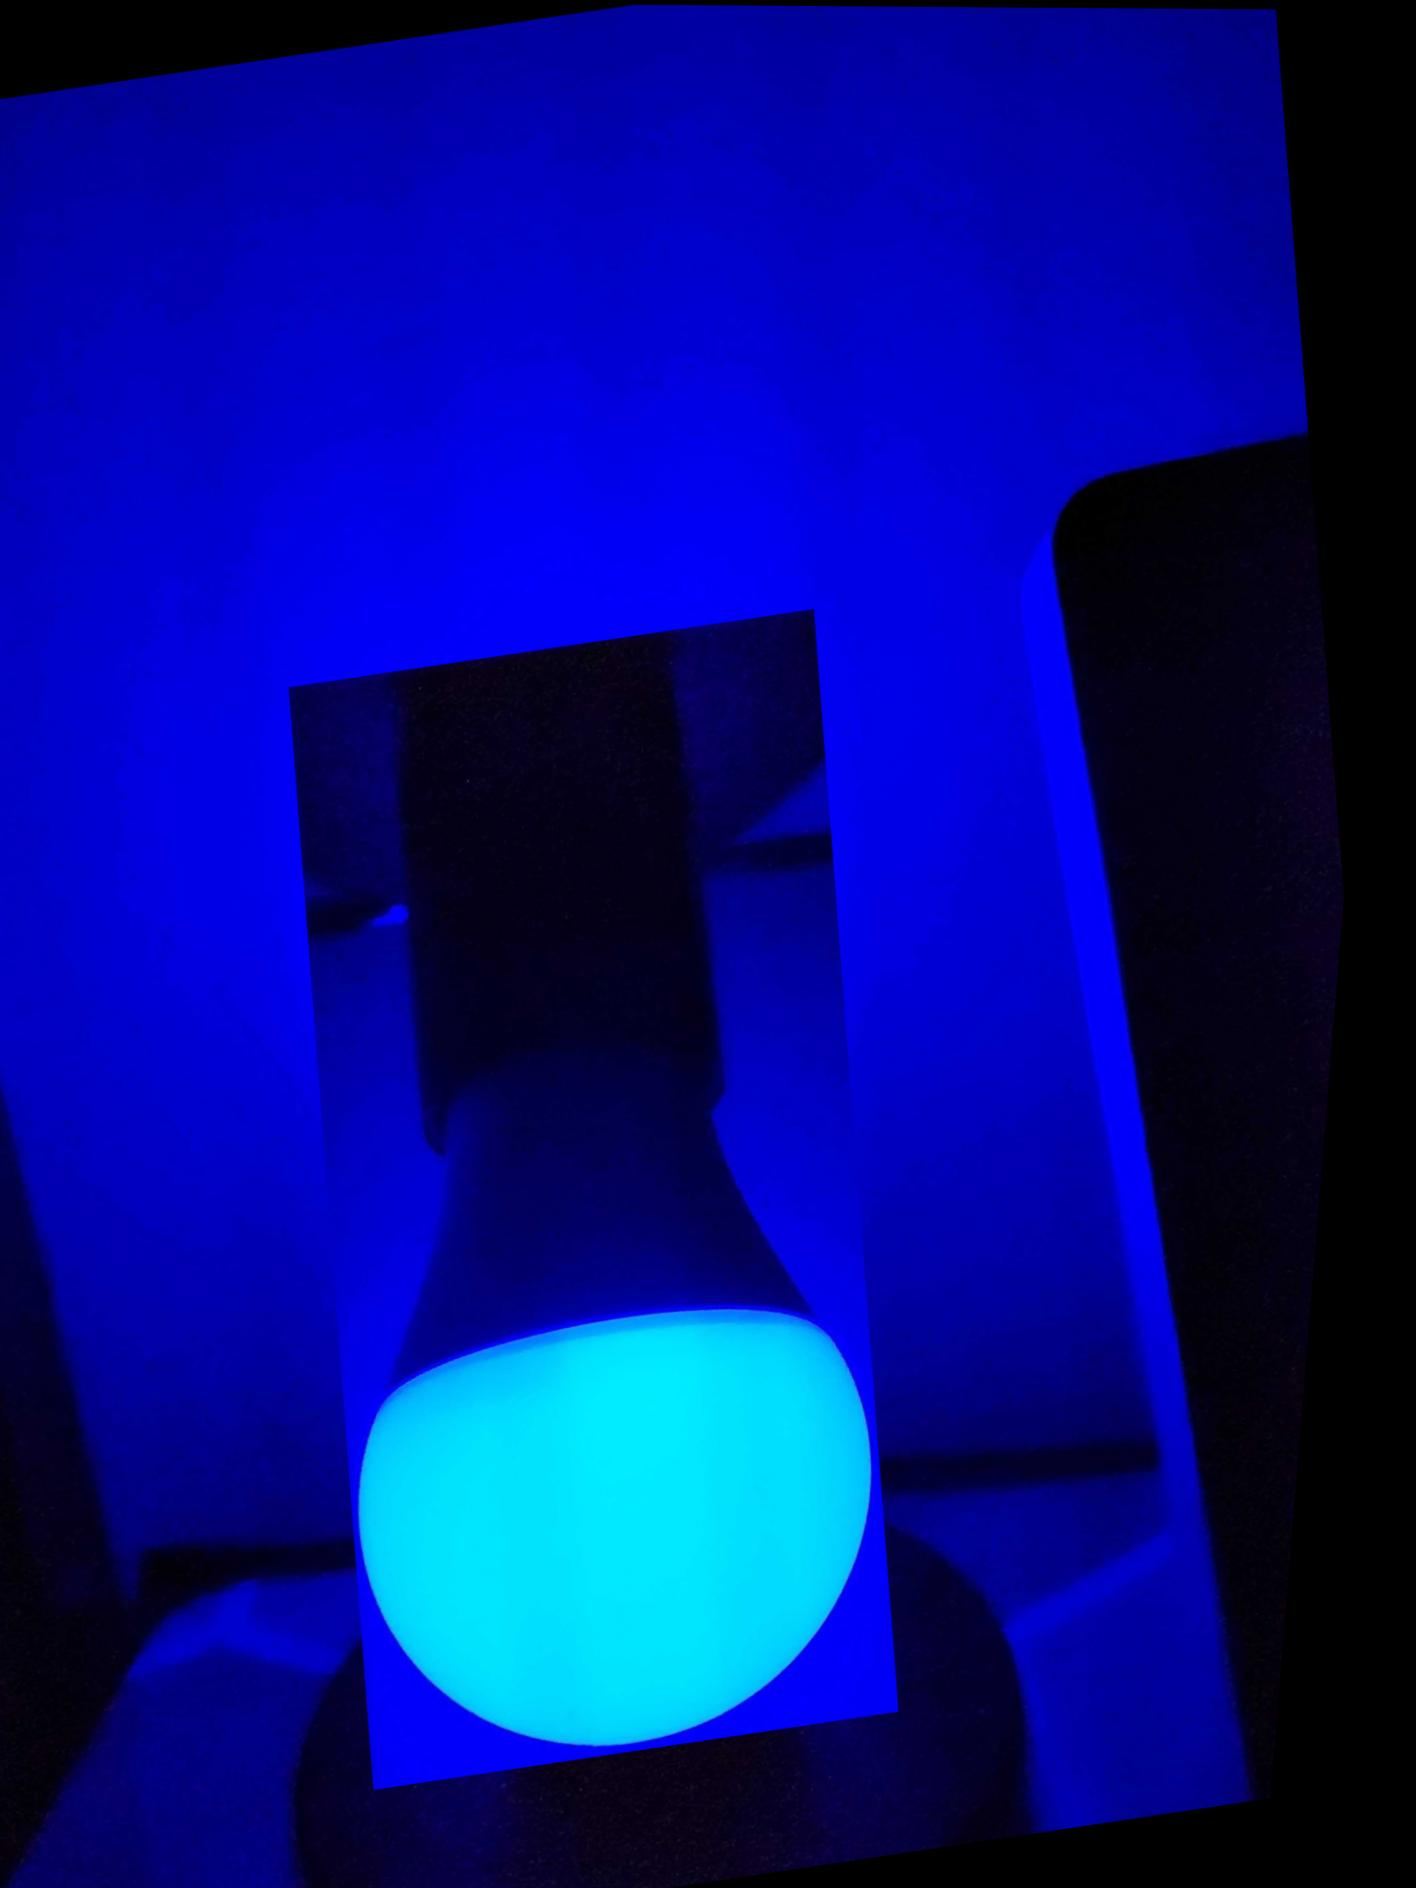TubeLight: (229, 604, 998, 1793)
